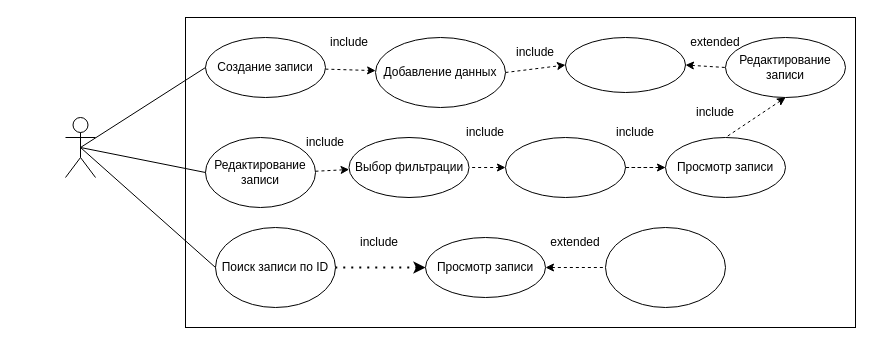
Some shapes in this 873 by 345 pixel diagram are drawn without their labels. Here are the shapes that lost their labels. From the top down, the centre of each, then its label:
point 625,64: Сохранение записи
point 80,147: Консультант-продавец
point 565,167: Выбор сортировки
point 665,267: Удаление записи
